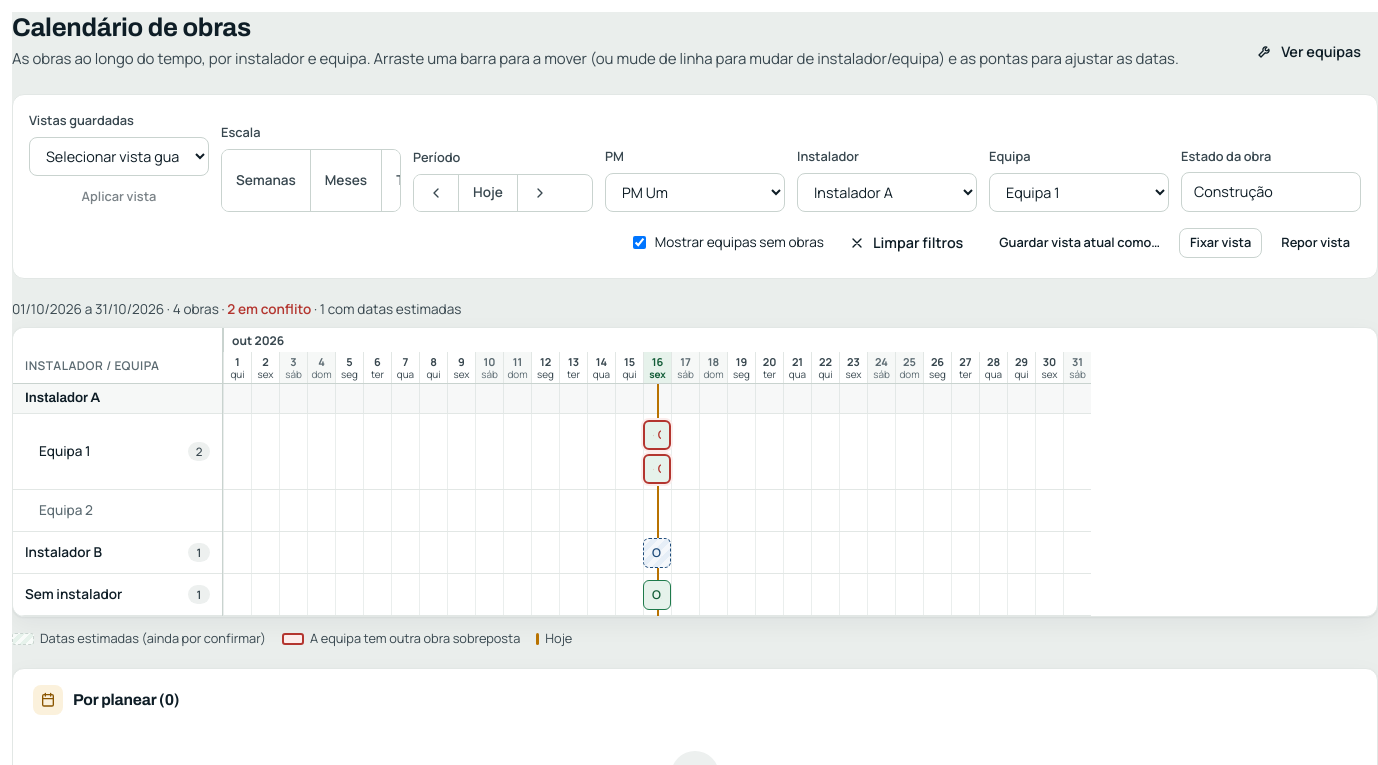
Test: Works (calendário de obras) › aplica a vista guardada quando não há parâmetros e mantém a data no mês atual
The image size is (1378, 765).
Click the button "Construção". click: [1271, 192]
box: [1181, 172, 1361, 212]
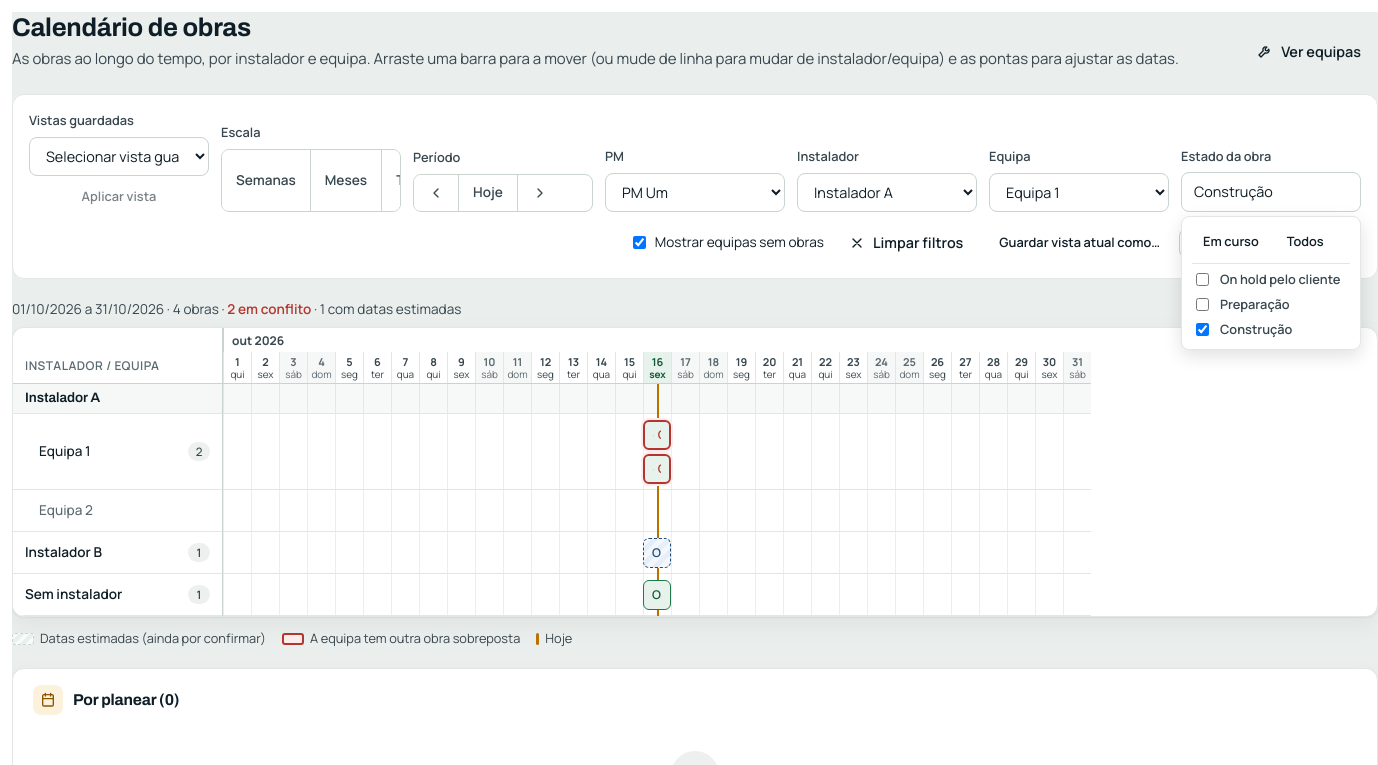
Check: the dropdown labelled "PM" shows "PM Um", box [605, 173, 785, 212]
Check: the checkbox labelled "Construção" is checked, box [1196, 323, 1209, 336]
